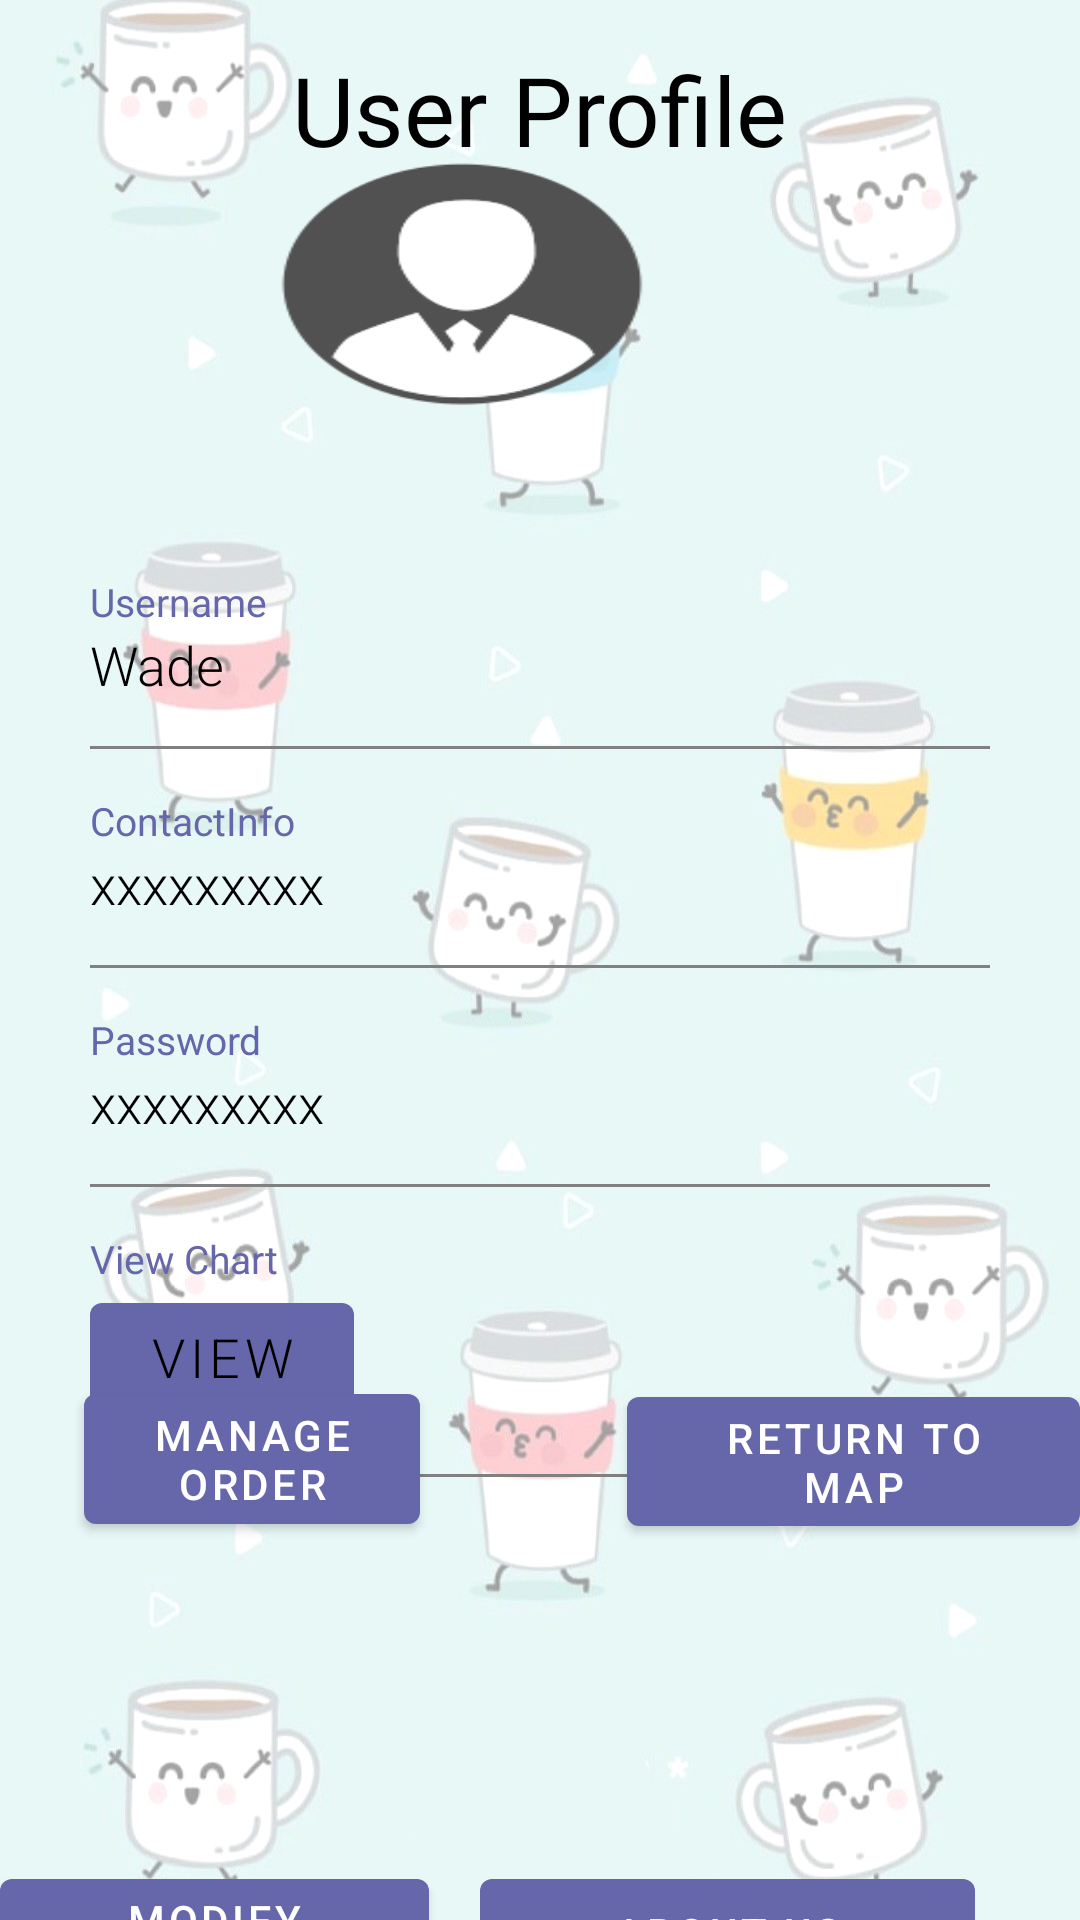

Screen size 1080×1920. Icon name, then its center in pixels as point (x, y):
yonghutouxiang: point (462, 297)
